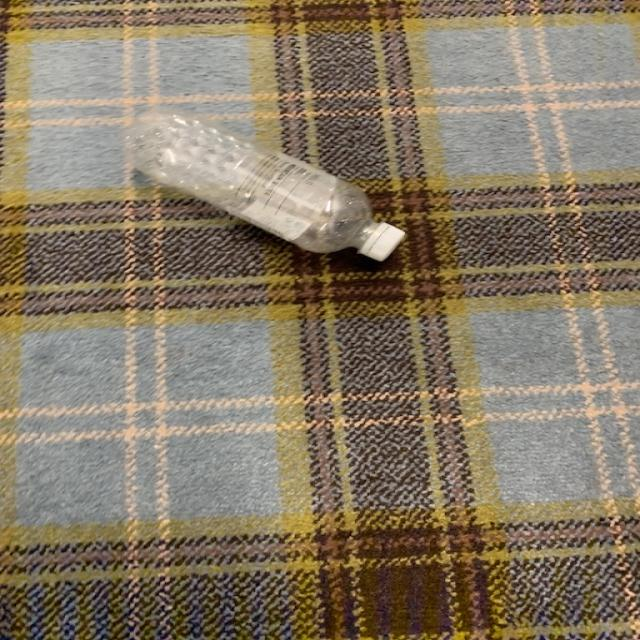Waste: (124, 111, 405, 260)
